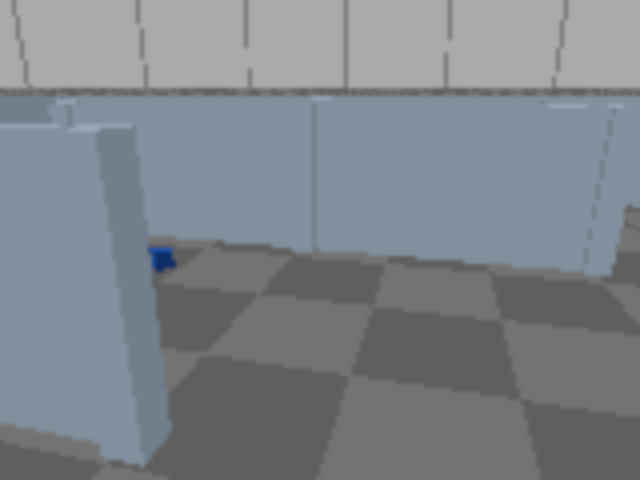puck: (150, 246, 175, 271)
